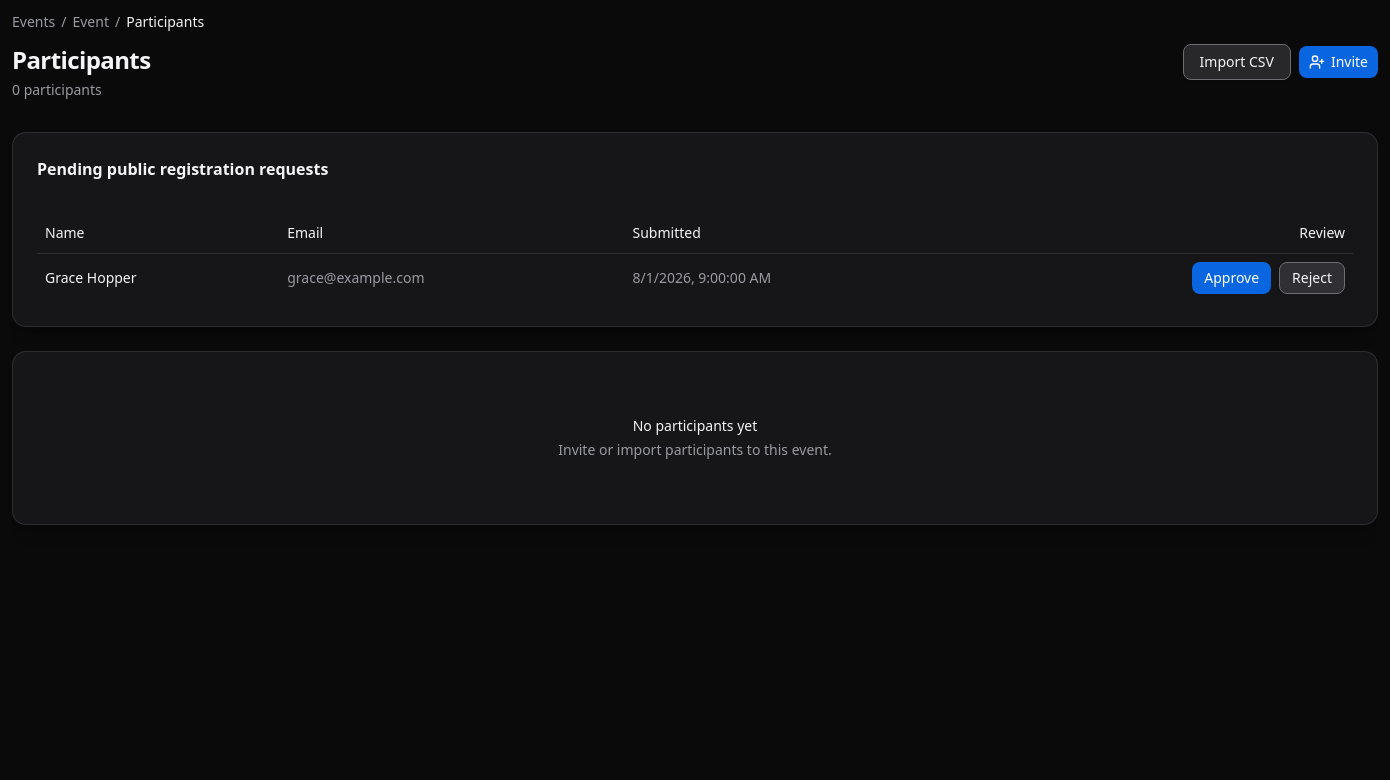
it: ParticipantsPage › shows a disposition failure and keeps the pending request visible
This screenshot has width=1390, height=780.
Step 1. Click the button with aria-label "Reject Grace Hopper" → (1312, 278), box [1279, 262, 1345, 294]
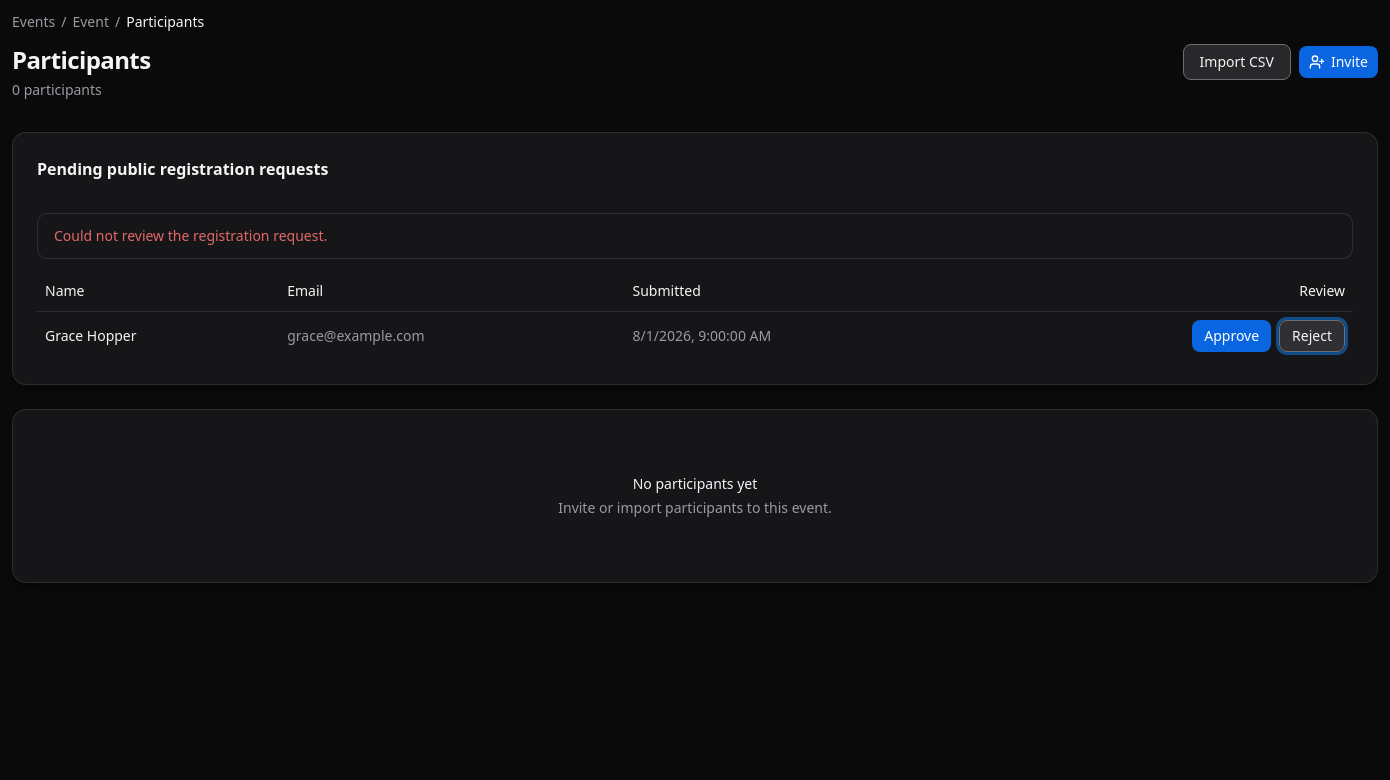
Expected: the text "Grace Hopper" is shown, [37, 311, 279, 360]
Now the text "Could not review the registration request." is shown, box [54, 226, 327, 245]
